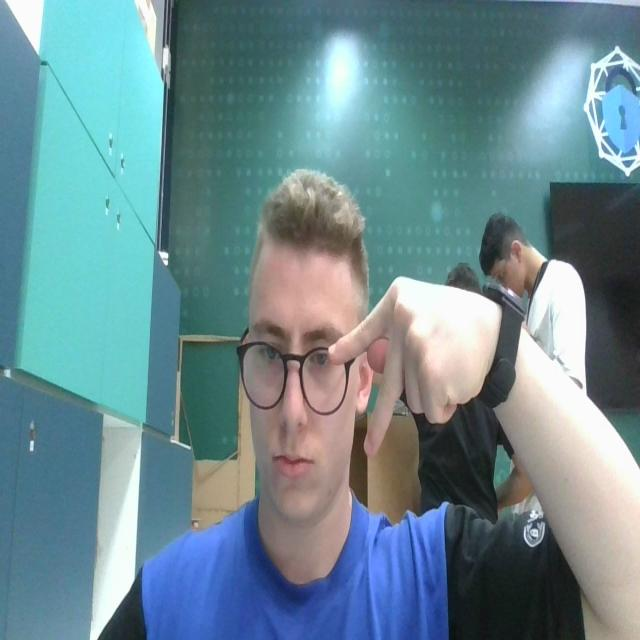P: (328, 272, 488, 466)
